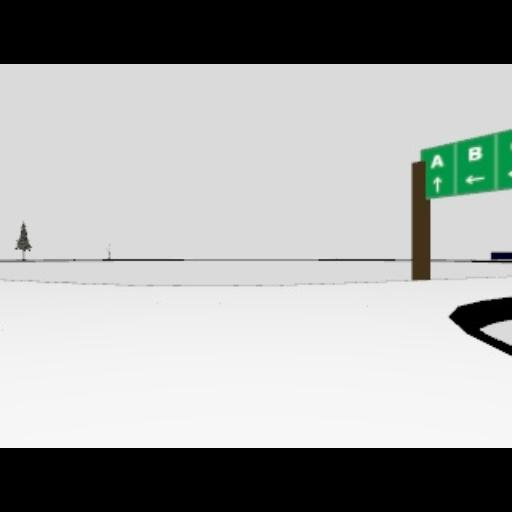A: (430, 154, 444, 170)
B: (468, 146, 484, 162)
Left: (464, 174, 486, 186)
Straight: (432, 176, 444, 194)
